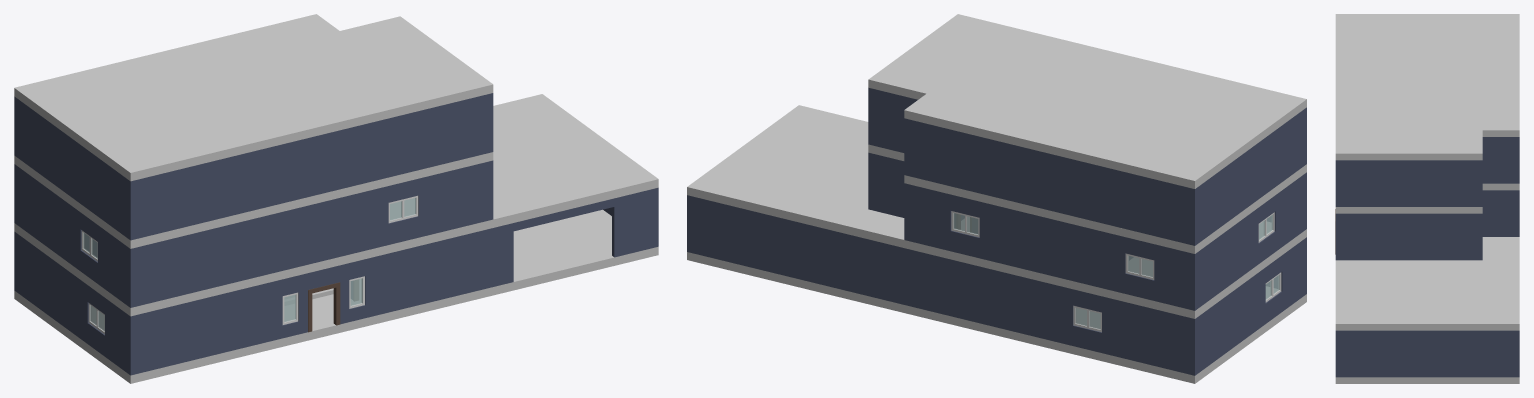
The model's file is Casa.fbx.
3 views of the same model, side by side, from view 1: azimuth 30°, elevation 25°; view 2: azimuth 150°, elevation 25°; view 3: azimuth 270°, elevation 25° (orthographic). The views are drawn at different scales.
Parts seen in each view (by area): view 1: ForjadoTecho, PlantaBaja, Guardilla, SegundaPlanta, ForjadoSegunda, ForjadoBaja, ForjadoTejado, Ventanas, Puertas; view 2: ForjadoTecho, PlantaBaja, Guardilla, SegundaPlanta, ForjadoSegunda, ForjadoBaja, ForjadoTejado, Ventanas; view 3: ForjadoTecho, ForjadoSegunda, PlantaBaja, SegundaPlanta, Guardilla, ForjadoTejado, ForjadoBaja.
Boxes of the visible parts, x1,y1,x2,y2 form: ForjadoTecho: (14, 14, 493, 181); PlantaBaja: (14, 187, 658, 375); Guardilla: (14, 93, 493, 240); SegundaPlanta: (14, 160, 493, 307); ForjadoSegunda: (14, 94, 658, 316); ForjadoBaja: (14, 209, 658, 383); ForjadoTejado: (14, 152, 493, 248); Ventanas: (83, 198, 415, 331); Puertas: (308, 280, 358, 332); ForjadoTecho: (868, 14, 1306, 188); PlantaBaja: (687, 195, 1306, 375); Guardilla: (868, 87, 1306, 245); SegundaPlanta: (868, 152, 1306, 310); ForjadoSegunda: (687, 105, 1306, 318); ForjadoBaja: (687, 252, 1306, 383); ForjadoTejado: (868, 144, 1306, 253); Ventanas: (953, 213, 1279, 329); ForjadoTecho: (1335, 14, 1519, 160); ForjadoSegunda: (1335, 237, 1519, 330); PlantaBaja: (1335, 330, 1519, 377); SegundaPlanta: (1335, 190, 1519, 260); Guardilla: (1335, 137, 1519, 206); ForjadoTejado: (1335, 183, 1519, 213); ForjadoBaja: (1335, 377, 1519, 383).
Bounding box in the file's own units: 13100 × 5000 × 5010.
